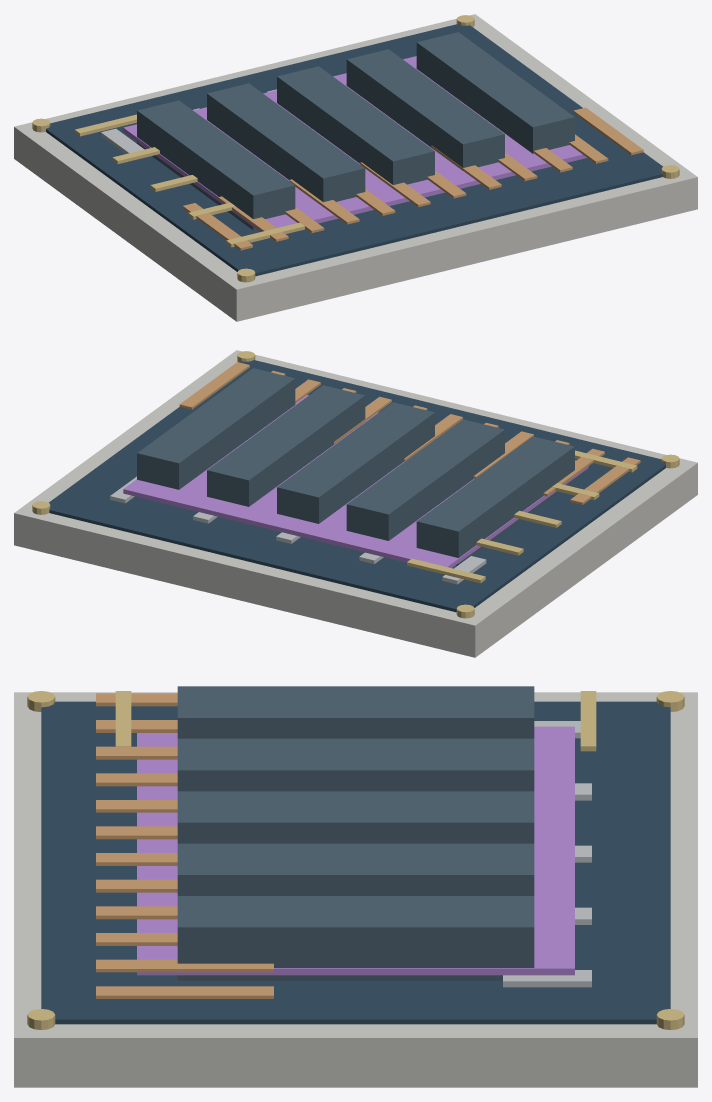
File: 07_L79_MemoryChiplet.glb
The picture shows the model from 3 angles, top to bottom: view 1: azimuth 30°, elevation 25°; view 2: azimuth 150°, elevation 25°; view 3: azimuth 270°, elevation 25°; orthographic projection. The views are drawn at different scales.
Visible parts, largest first — view 1: MemoryChiplet_Node_0000, MemoryChiplet_Node_0001, MemoryChiplet_Node_0214, MemoryChiplet_Node_0218, MemoryChiplet_Node_0217, MemoryChiplet_Node_0215, MemoryChiplet_Node_0216, MemoryChiplet_Node_0002, MemoryChiplet_Node_0014, MemoryChiplet_Node_0003, MemoryChiplet_Node_0006, MemoryChiplet_Node_0019 (+5 smaller); view 2: MemoryChiplet_Node_0000, MemoryChiplet_Node_0001, MemoryChiplet_Node_0214, MemoryChiplet_Node_0218, MemoryChiplet_Node_0217, MemoryChiplet_Node_0215, MemoryChiplet_Node_0216, MemoryChiplet_Node_0002, MemoryChiplet_Node_0014, MemoryChiplet_Node_0003, MemoryChiplet_Node_0015, MemoryChiplet_Node_0008; view 3: MemoryChiplet_Node_0001, MemoryChiplet_Node_0000, MemoryChiplet_Node_0218, MemoryChiplet_Node_0215, MemoryChiplet_Node_0214, MemoryChiplet_Node_0216, MemoryChiplet_Node_0217, MemoryChiplet_Node_0002, MemoryChiplet_Node_0014, MemoryChiplet_Node_0013, MemoryChiplet_Node_0024, MemoryChiplet_Node_0005 (+11 smaller).
Boxes of the visible parts, x1=… form: MemoryChiplet_Node_0000: x1=14, y1=14, x2=697, y2=321; MemoryChiplet_Node_0001: x1=46, y1=24, x2=662, y2=276; MemoryChiplet_Node_0214: x1=137, y1=100, x2=295, y2=230; MemoryChiplet_Node_0218: x1=416, y1=32, x2=574, y2=153; MemoryChiplet_Node_0217: x1=346, y1=49, x2=504, y2=170; MemoryChiplet_Node_0215: x1=207, y1=83, x2=365, y2=202; MemoryChiplet_Node_0216: x1=277, y1=66, x2=434, y2=184; MemoryChiplet_Node_0002: x1=123, y1=56, x2=586, y2=231; MemoryChiplet_Node_0014: x1=573, y1=107, x2=643, y2=155; MemoryChiplet_Node_0003: x1=182, y1=203, x2=252, y2=250; MemoryChiplet_Node_0006: x1=289, y1=179, x2=359, y2=224; MemoryChiplet_Node_0019: x1=226, y1=222, x2=304, y2=247; MemoryChiplet_Node_0000: x1=14, y1=350, x2=697, y2=657; MemoryChiplet_Node_0001: x1=49, y1=360, x2=665, y2=612; MemoryChiplet_Node_0214: x1=416, y1=436, x2=574, y2=565; MemoryChiplet_Node_0218: x1=137, y1=368, x2=295, y2=489; MemoryChiplet_Node_0217: x1=207, y1=385, x2=365, y2=506; MemoryChiplet_Node_0215: x1=346, y1=419, x2=504, y2=540; MemoryChiplet_Node_0216: x1=277, y1=402, x2=434, y2=523; MemoryChiplet_Node_0002: x1=123, y1=395, x2=588, y2=567; MemoryChiplet_Node_0014: x1=179, y1=362, x2=249, y2=409; MemoryChiplet_Node_0003: x1=570, y1=457, x2=640, y2=504; MemoryChiplet_Node_0015: x1=407, y1=558, x2=485, y2=583; MemoryChiplet_Node_0008: x1=403, y1=414, x2=462, y2=461; MemoryChiplet_Node_0001: x1=41, y1=701, x2=670, y2=1024; MemoryChiplet_Node_0000: x1=14, y1=692, x2=697, y2=1087; MemoryChiplet_Node_0218: x1=177, y1=896, x2=534, y2=980; MemoryChiplet_Node_0215: x1=177, y1=738, x2=534, y2=791; MemoryChiplet_Node_0214: x1=177, y1=686, x2=534, y2=738; MemoryChiplet_Node_0216: x1=177, y1=791, x2=534, y2=843; MemoryChiplet_Node_0217: x1=177, y1=843, x2=534, y2=895; MemoryChiplet_Node_0002: x1=137, y1=726, x2=574, y2=975; MemoryChiplet_Node_0014: x1=96, y1=986, x2=273, y2=998; MemoryChiplet_Node_0013: x1=96, y1=959, x2=273, y2=972; MemoryChiplet_Node_0024: x1=503, y1=970, x2=591, y2=987; MemoryChiplet_Node_0005: x1=96, y1=746, x2=177, y2=759.
Bounding box in the file's own units: 1.65 × 0.2526 × 1.38.
